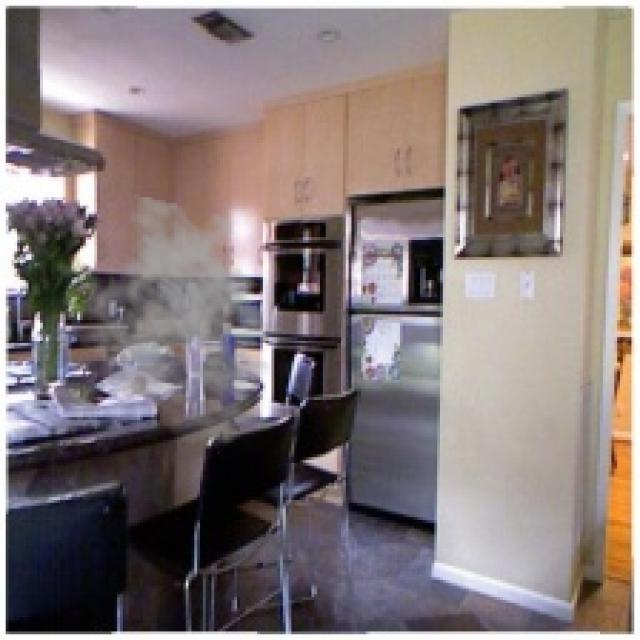smoke: (77, 194, 292, 449)
